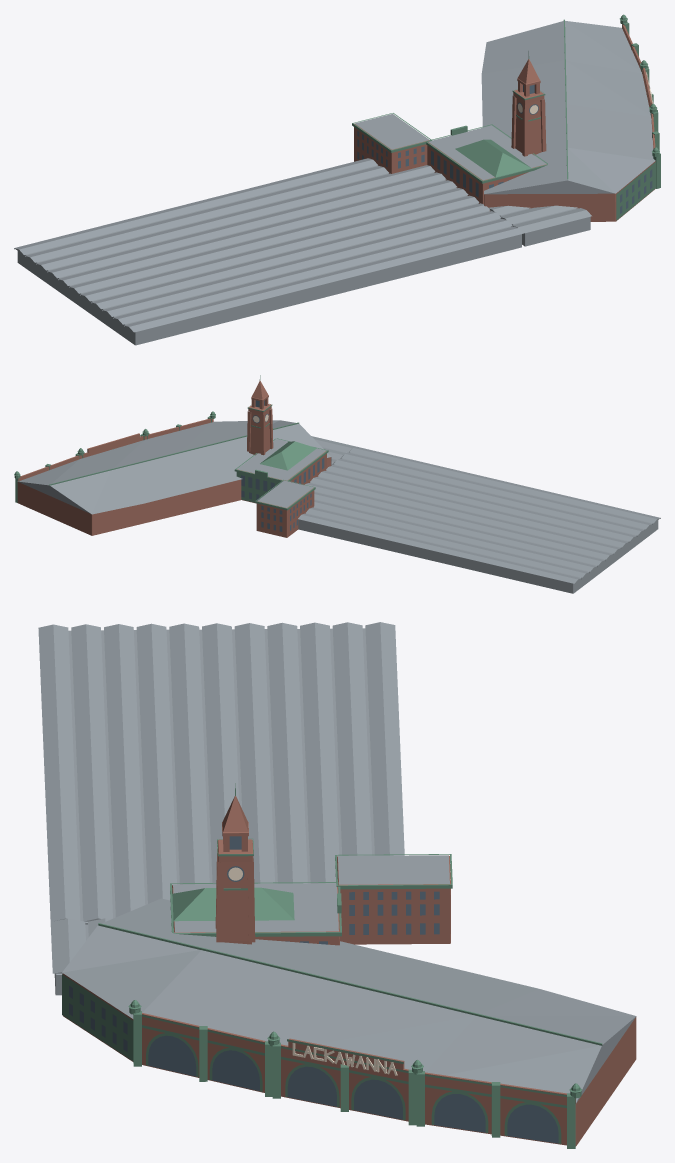
The model's file is detail.glb.
3 renders of one model, top to bottom at view 1: azimuth 30°, elevation 25°; view 2: azimuth 150°, elevation 25°; view 3: azimuth 270°, elevation 25°, orthographic. The views are drawn at different scales.
Visible parts, largest first — view 1: hoboken-terminal; view 2: hoboken-terminal; view 3: hoboken-terminal.
Part boxes in pixels (x1,y1,x2,y2): hoboken-terminal: (14,14,660,345); hoboken-terminal: (14,375,660,593); hoboken-terminal: (38,622,636,1148).
Bounding box in the file's own units: 339 × 66 × 170.
